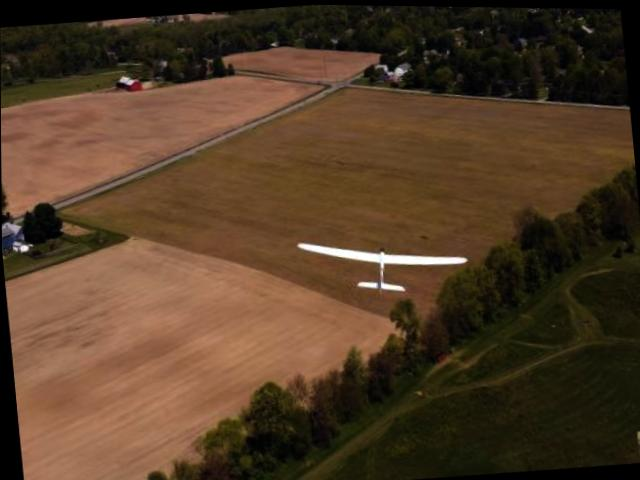uav: (290, 212, 476, 312)
